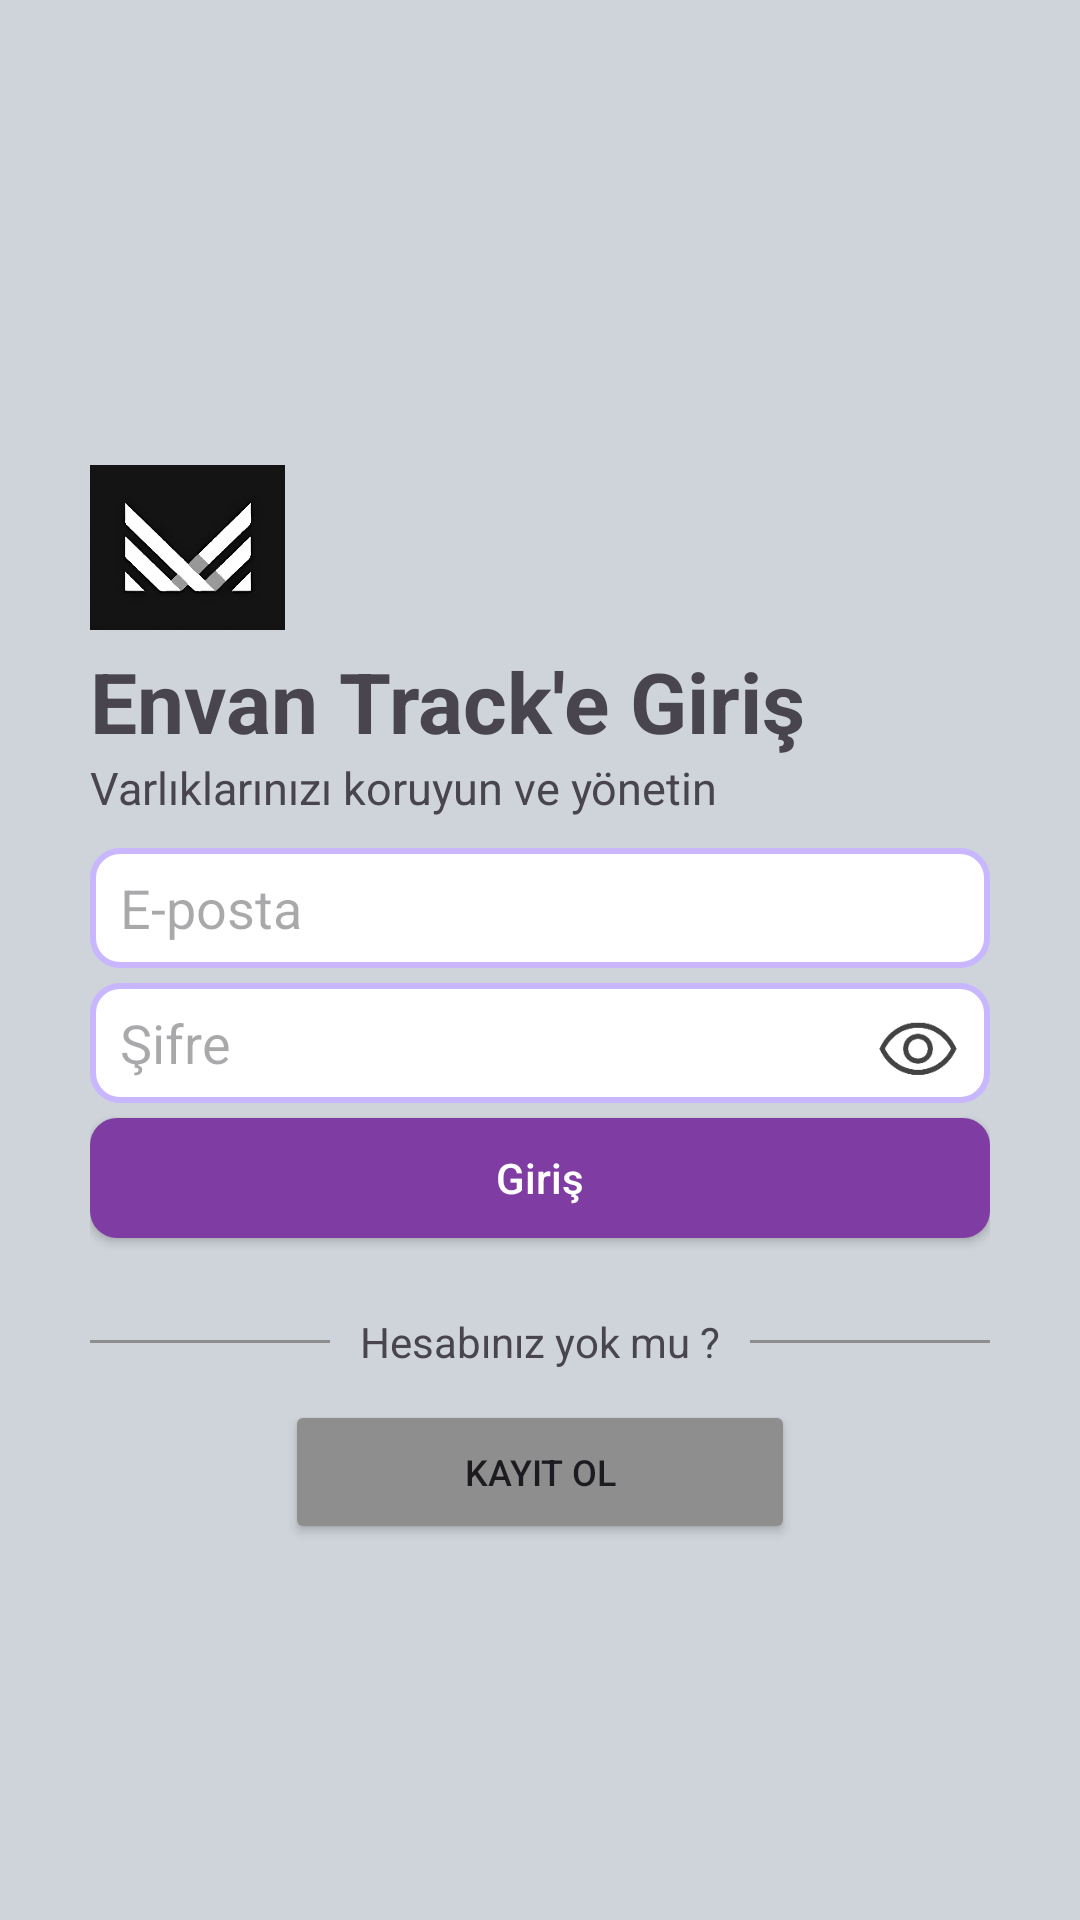

Icons on this 1080×1920 Android screen, each with its box as bbox=(x1, y1, x2, y2):
visibility: bbox=(879, 1022, 957, 1075)
